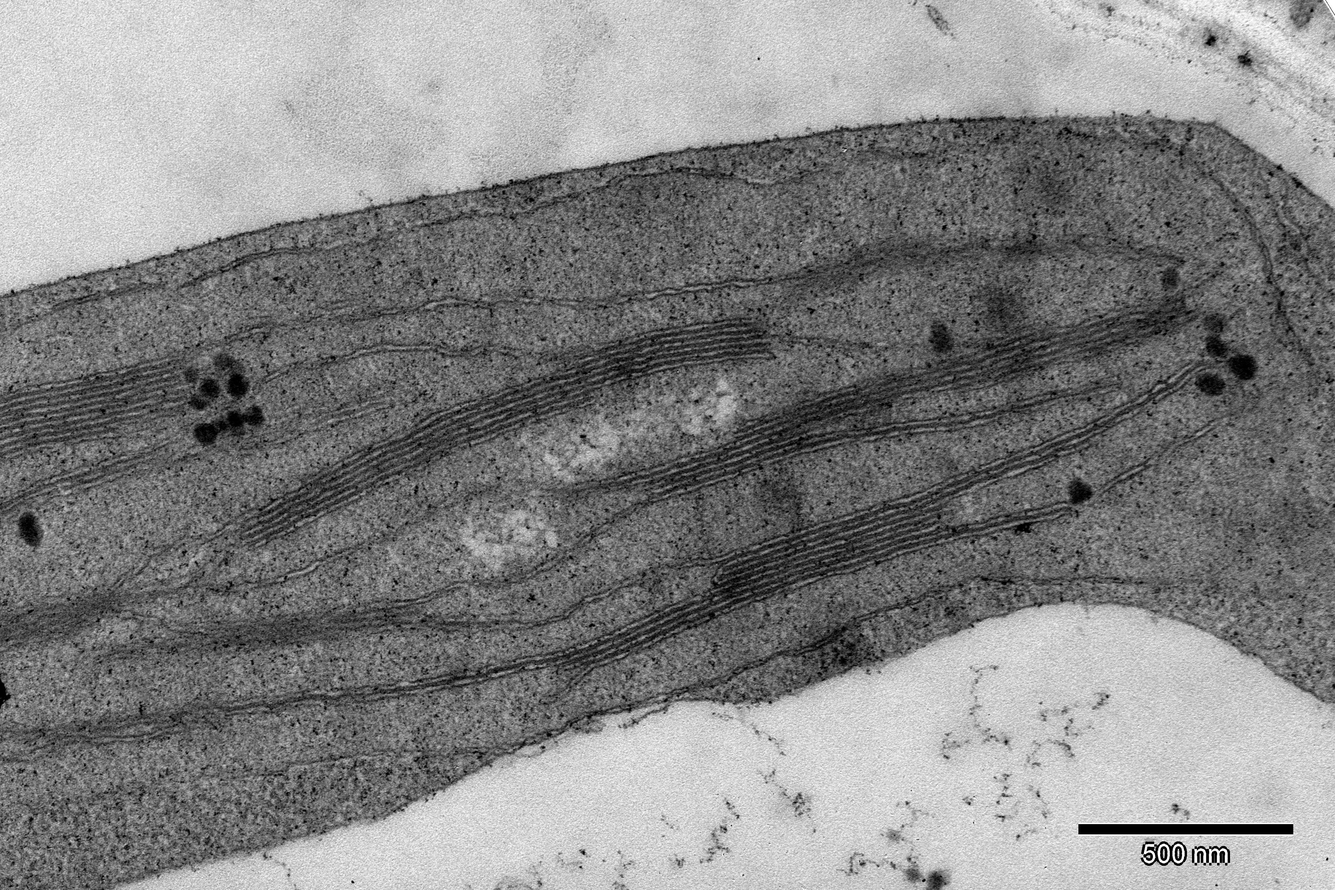granum: (543, 420, 1096, 678), (230, 347, 602, 554), (631, 345, 991, 509), (0, 338, 201, 467), (981, 282, 1192, 396), (123, 592, 427, 667), (0, 563, 202, 657), (572, 312, 781, 394), (16, 433, 180, 513), (30, 712, 109, 761), (172, 690, 236, 737)
